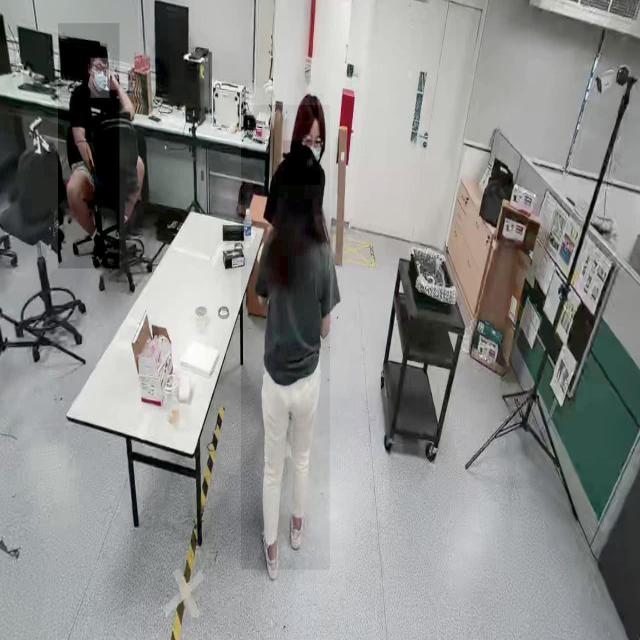face_mask: (90, 52, 110, 98)
hand_noglove: (106, 69, 118, 91)
head_nohelmet: (283, 140, 321, 186), (294, 93, 324, 122), (88, 44, 108, 58)
person: (241, 105, 331, 571), (58, 23, 120, 269)
shoes: (258, 518, 282, 581), (287, 497, 307, 558), (87, 222, 108, 268)
